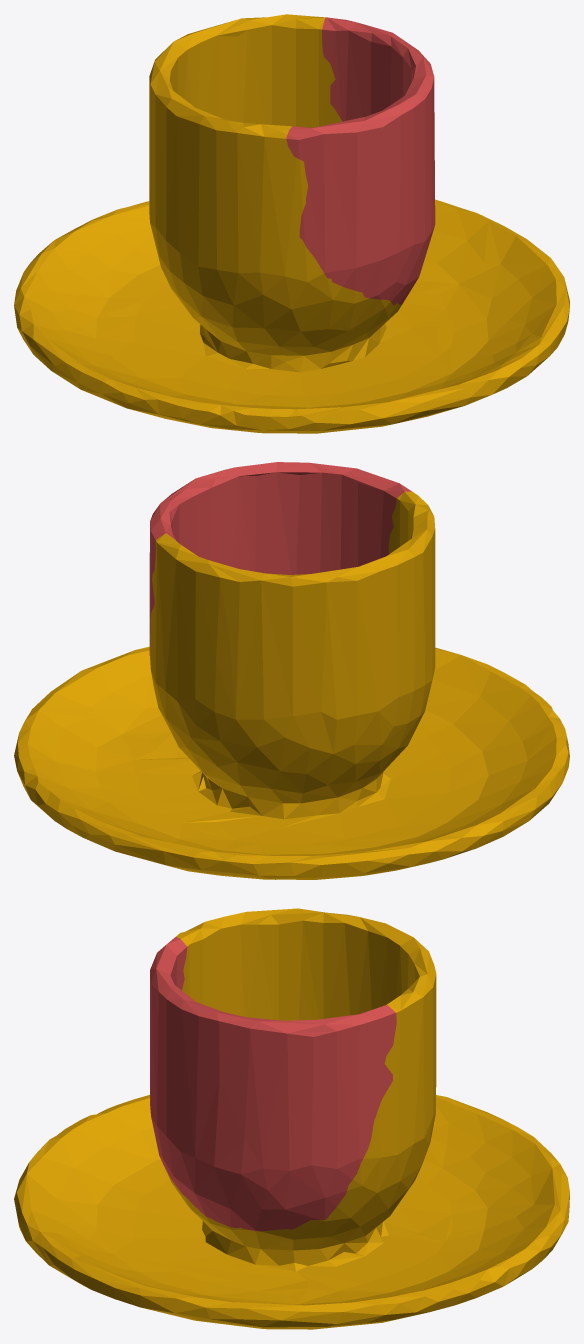
The model's file is fractured_22_2pcs.glb.
3 views of the same model, one above another, from view 1: azimuth 30°, elevation 25°; view 2: azimuth 150°, elevation 25°; view 3: azimuth 270°, elevation 25° (orthographic).
Visible parts, largest first — view 1: piece_0.obj, piece_1.obj; view 2: piece_0.obj, piece_1.obj; view 3: piece_0.obj, piece_1.obj.
Boxes of the visible parts, left/top/right/bottom form: piece_0.obj: left=14, top=14, right=569, bottom=433; piece_1.obj: left=286, top=17, right=435, bottom=305; piece_0.obj: left=14, top=491, right=569, bottom=879; piece_1.obj: left=149, top=462, right=411, bottom=655; piece_0.obj: left=14, top=908, right=569, bottom=1329; piece_1.obj: left=150, top=937, right=396, bottom=1231.
Size of the model in its own units: 1 by 0.5655 by 0.9972.
